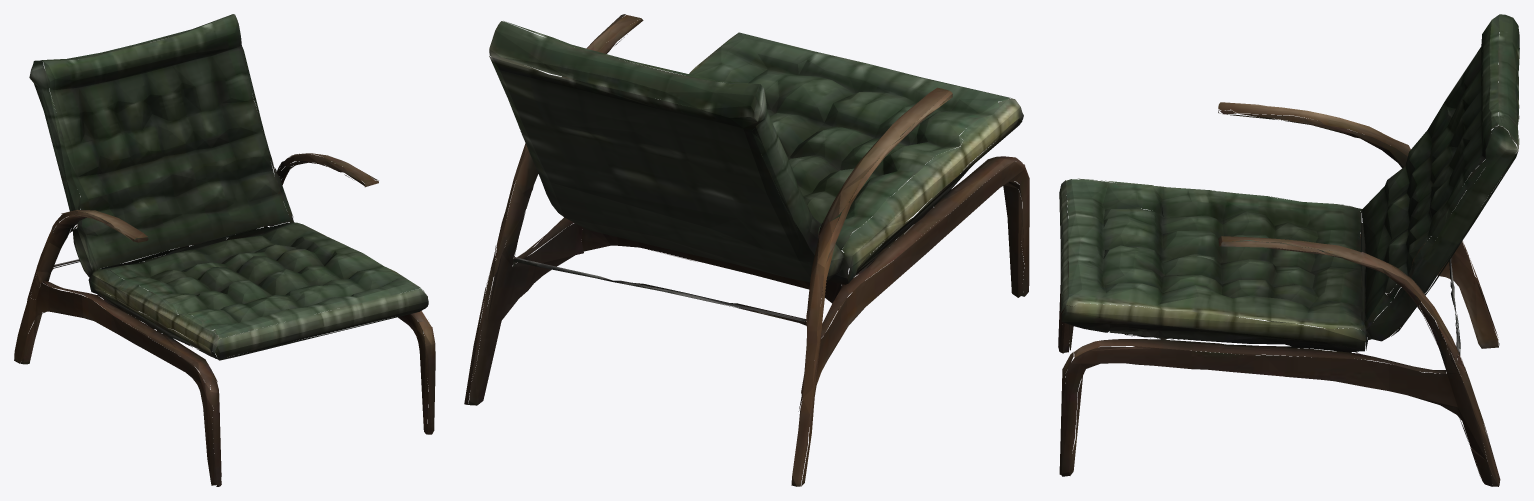
Rendered from j-fauteuil.glb.
3 views of the same model, side by side, from view 1: azimuth 30°, elevation 25°; view 2: azimuth 150°, elevation 25°; view 3: azimuth 270°, elevation 25° (orthographic). The views are drawn at different scales.
Visible parts, largest first — view 1: geometry_0; view 2: geometry_0; view 3: geometry_0.
Boxes of the visible parts, x1,y1,x2,y2 form: geometry_0: (14,14,435,486); geometry_0: (464,14,1029,486); geometry_0: (1058,14,1519,486).
Bounding box in the file's own units: 0.745 × 0.8306 × 1.
Materials: 1 (1 with a texture image).
